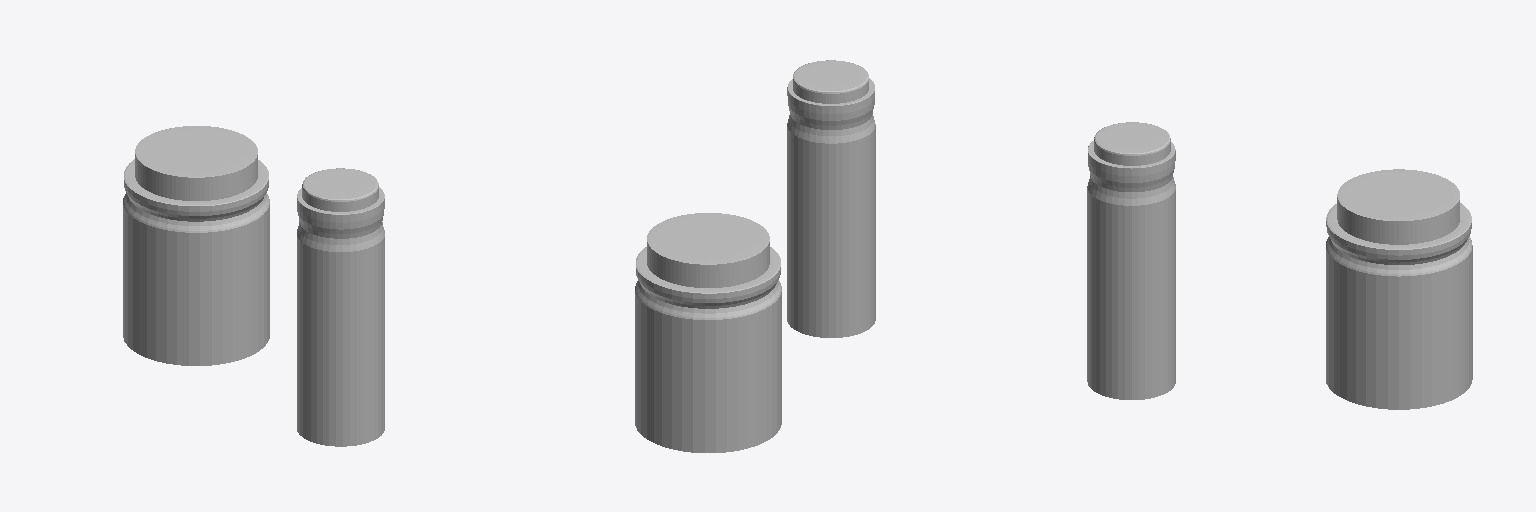
The model's file is jarsHP.obj.
3 renders of one model, left to right at view 1: azimuth 30°, elevation 25°; view 2: azimuth 150°, elevation 25°; view 3: azimuth 270°, elevation 25°, orthographic.
Visible parts, largest first — view 1: pCylinder14 polySurface531, polySurface530 pCylinder14, pCylinder14 polySurface321, polySurface493; view 2: pCylinder14 polySurface531, polySurface530 pCylinder14, pCylinder14 polySurface321, polySurface493; view 3: pCylinder14 polySurface531, polySurface530 pCylinder14, pCylinder14 polySurface321, polySurface493.
Part boxes in pixels (x1,y1,x2,y2): pCylinder14 polySurface531: (123,159,269,365); polySurface530 pCylinder14: (297,187,384,446); pCylinder14 polySurface321: (135,126,257,200); polySurface493: (302,168,378,211); pCylinder14 polySurface531: (635,247,781,452); polySurface530 pCylinder14: (787,78,875,337); pCylinder14 polySurface321: (647,213,769,287); polySurface493: (793,60,868,103); pCylinder14 polySurface531: (1326,203,1472,409); polySurface530 pCylinder14: (1087,141,1175,399); pCylinder14 polySurface321: (1337,169,1459,244); polySurface493: (1094,122,1170,165).
Bounding box in the file's own units: 0.351 × 0.6512 × 0.9198.